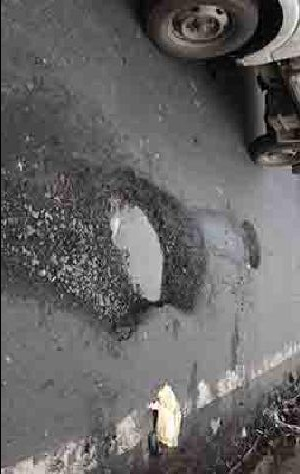pothole: (5, 167, 208, 339), (240, 219, 263, 270)
